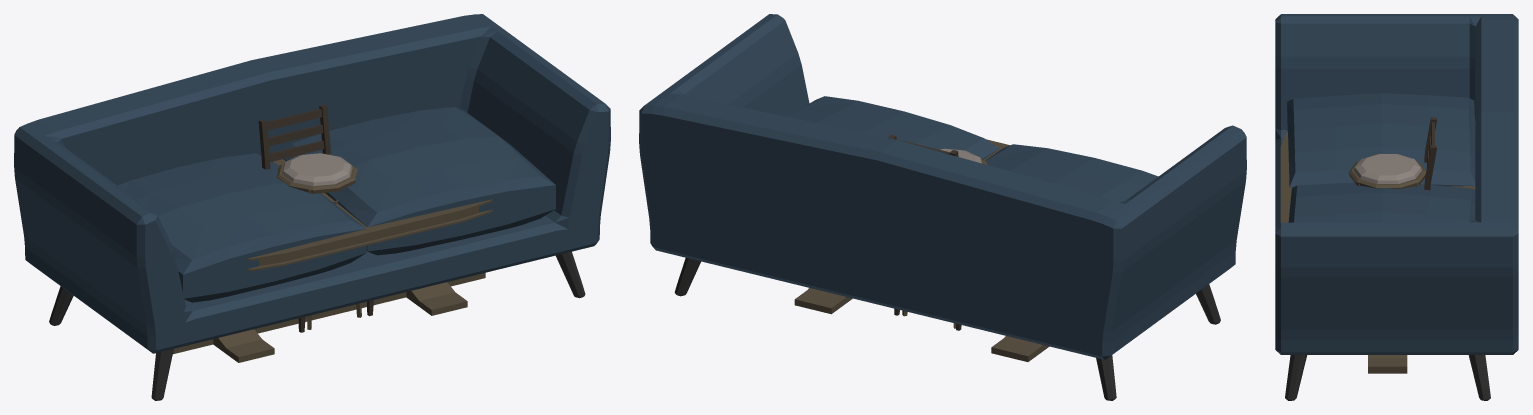
Rendered from interior.glb.
3 renders of one model, left to right at view 1: azimuth 30°, elevation 25°; view 2: azimuth 150°, elevation 25°; view 3: azimuth 270°, elevation 25°, orthographic. The views are drawn at different scales.
Visible parts, largest first — view 1: Couch_Medium1, Table_RoundLarge, Stool, Chair_2; view 2: Couch_Medium1, Table_RoundLarge; view 3: Couch_Medium1, Stool, Table_RoundLarge, Chair_2.
Part boxes in pixels (x1,y1,x2,y2): Couch_Medium1: (14, 14, 610, 400); Table_RoundLarge: (173, 159, 492, 362); Stool: (276, 153, 361, 329); Chair_2: (258, 104, 373, 332); Couch_Medium1: (639, 14, 1246, 400); Table_RoundLarge: (794, 139, 1049, 361); Couch_Medium1: (1275, 14, 1518, 400); Stool: (1348, 154, 1426, 188); Table_RoundLarge: (1280, 121, 1475, 373); Chair_2: (1424, 117, 1436, 190).
Size of the model in its own units: 4.69 by 1.91 by 2.2.
